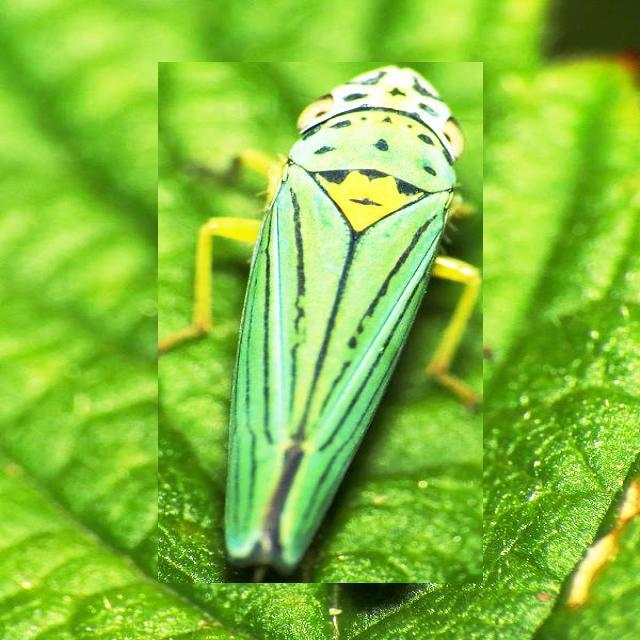green-leafhopper: (158, 62, 483, 583)
